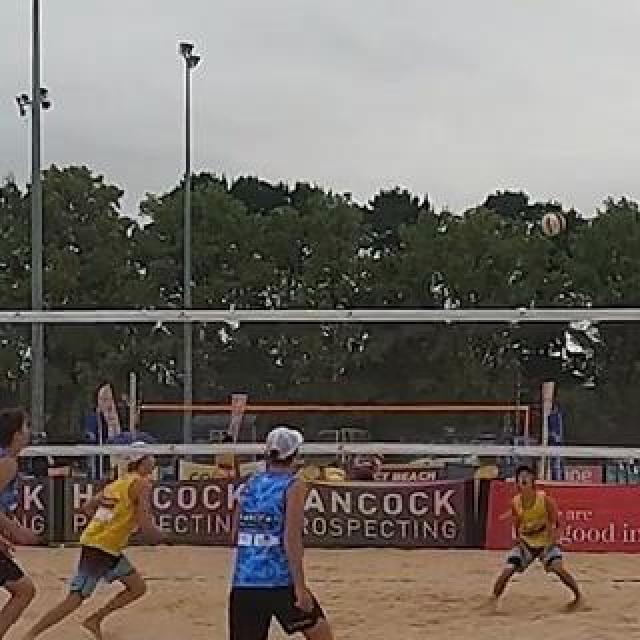volleyball: (541, 213, 563, 235)
